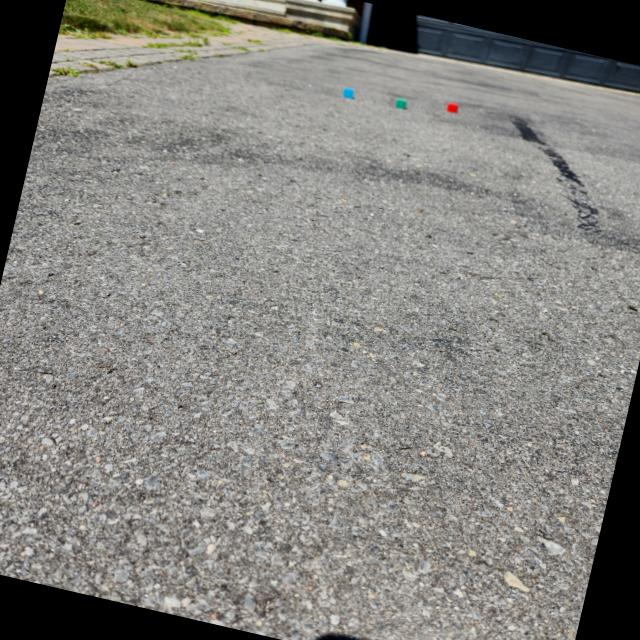bluecube: (342, 86, 354, 100)
green cube: (394, 96, 407, 110)
red cube: (446, 100, 460, 114)
